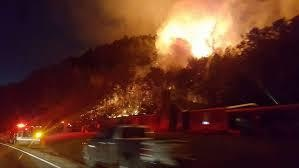fire: (153, 5, 240, 63)
